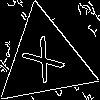X: (20, 35, 73, 92)
